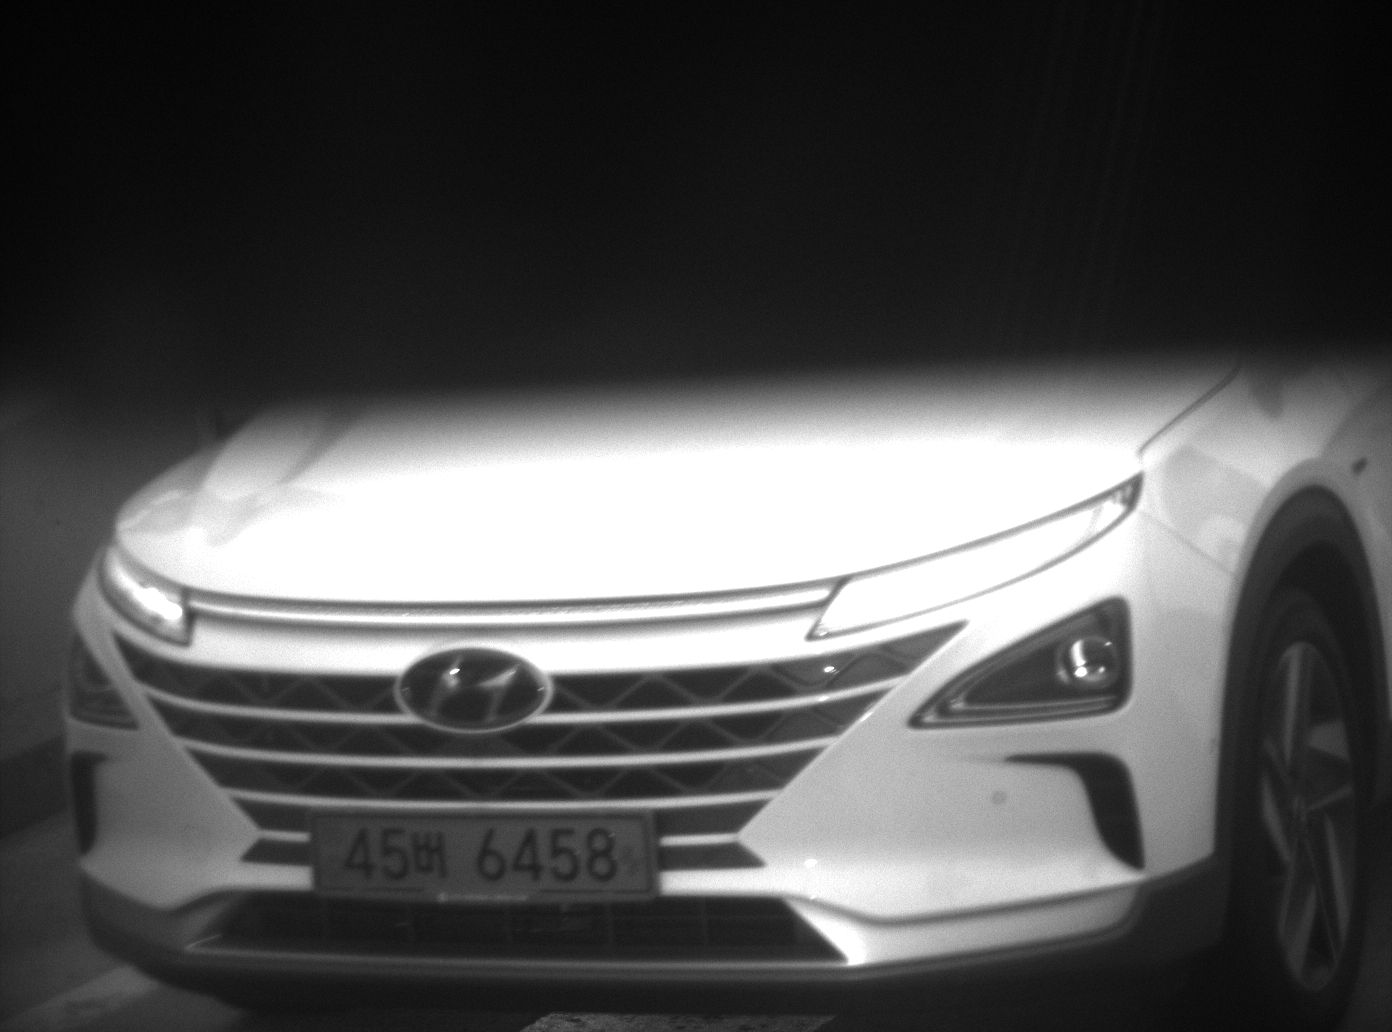car: (58, 346, 1389, 1026)
plate: (305, 807, 657, 898)
